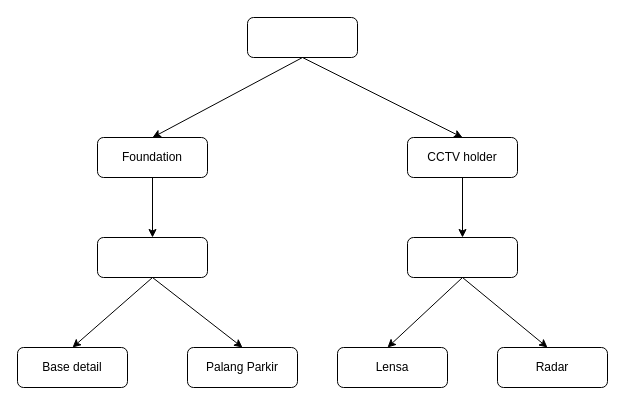
This 625x405 diagram has some shape labels left out. Each missing label, with the centre of its shape:
"Base Unit" belongs at [152,257].
"CCTV Body" belongs at [462,257].
"Ground / Tanah" belongs at [302,37].
